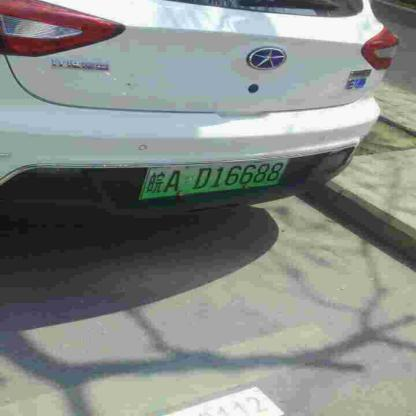lp: (141, 159, 290, 199)
